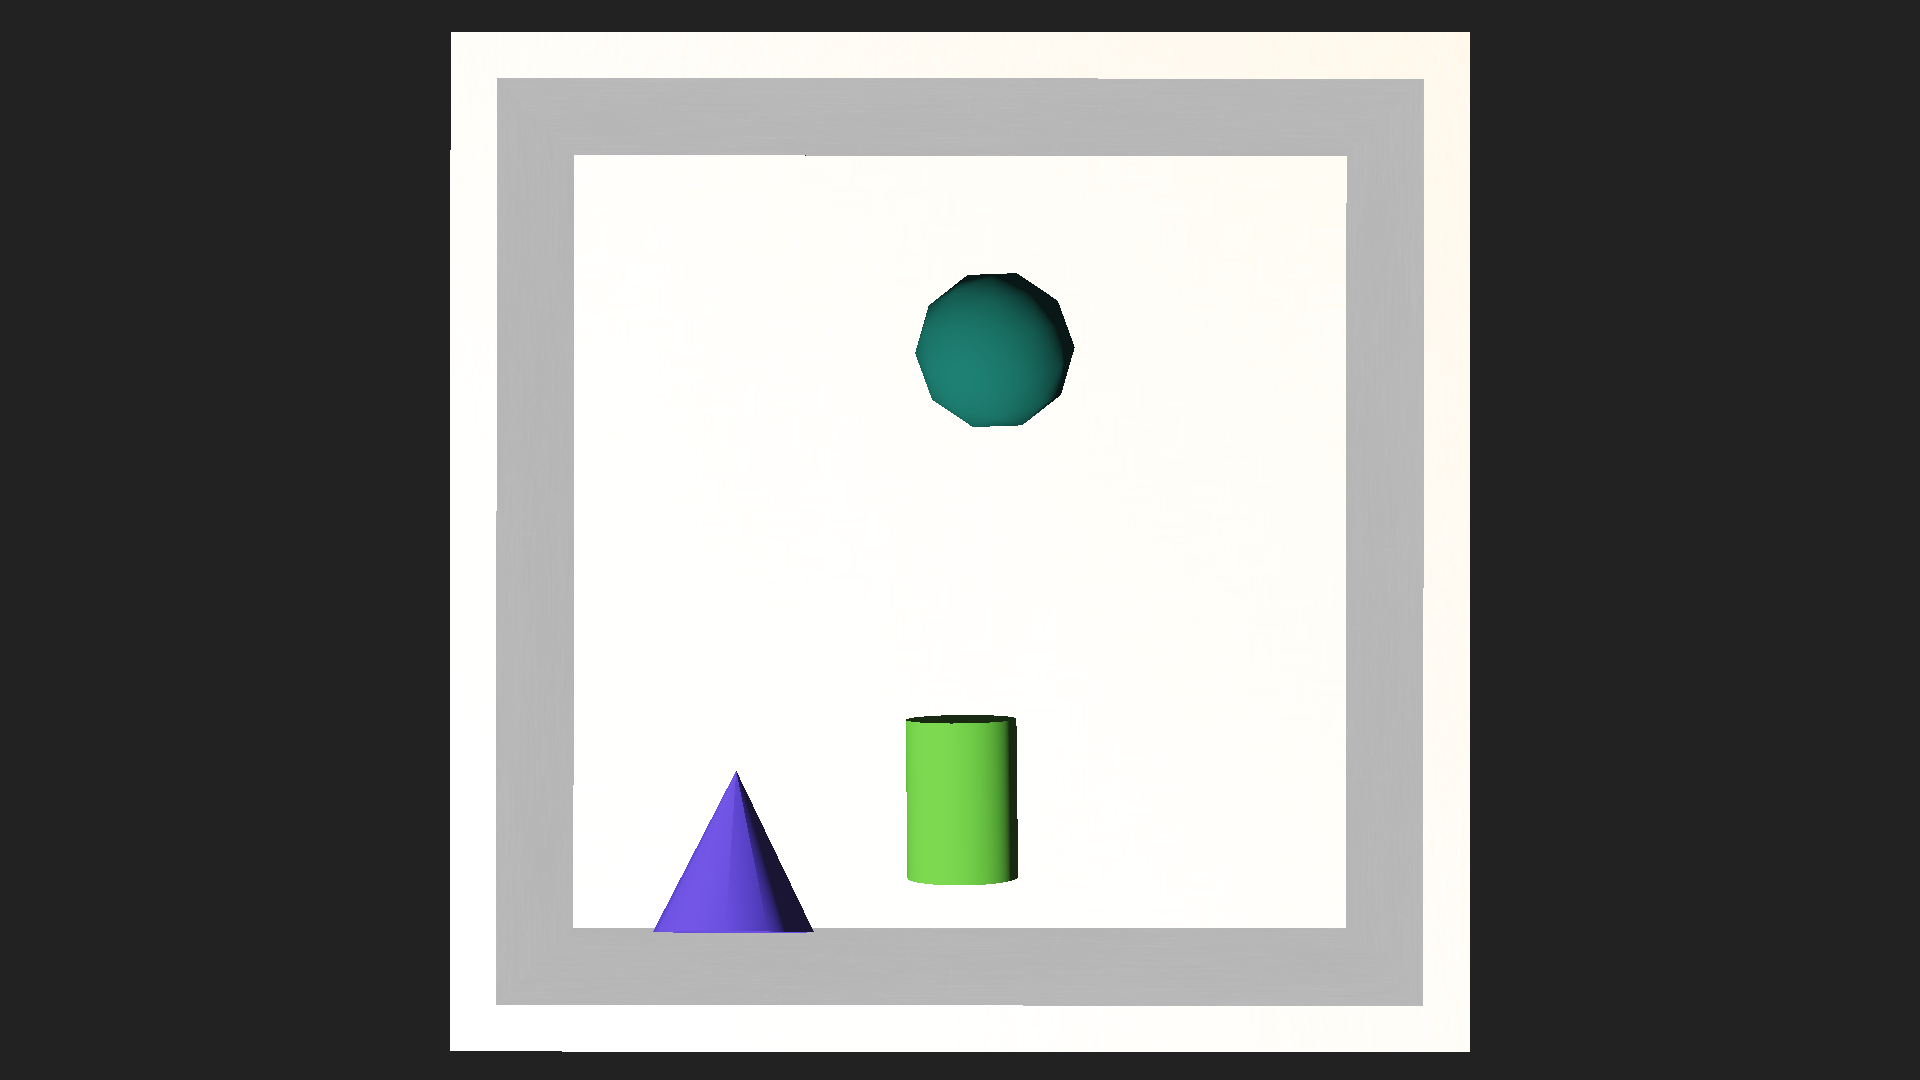cone: (903, 713, 1019, 885)
cylinder: (650, 750, 811, 956)
sphere: (914, 270, 1073, 430)
